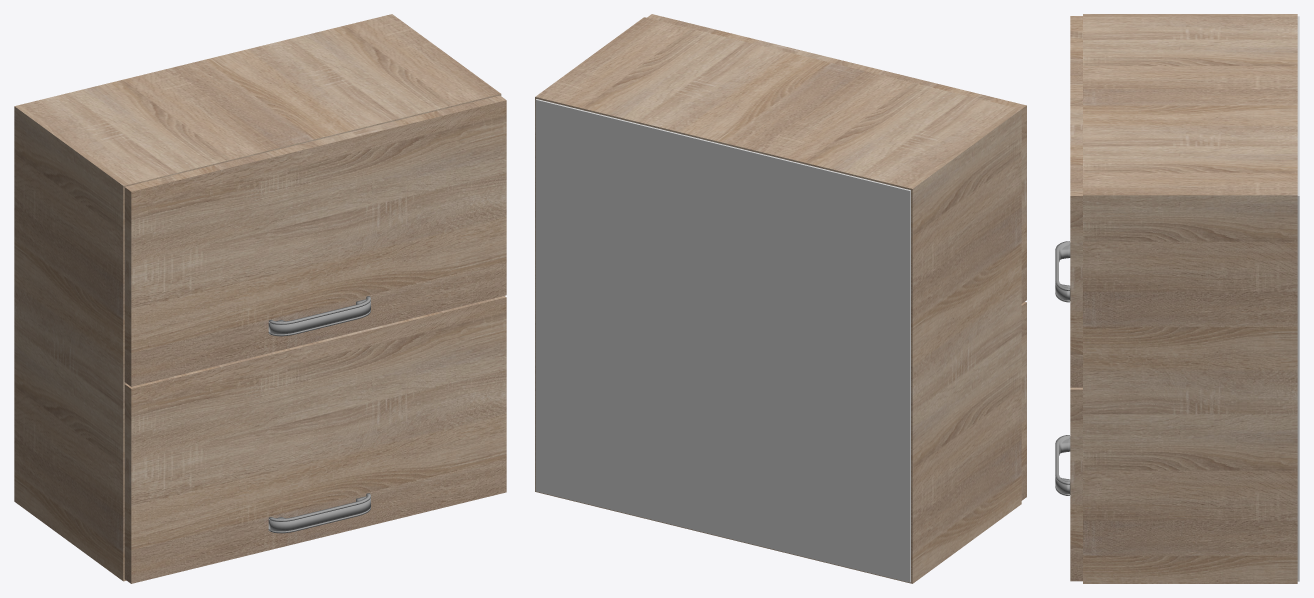
3 renders of one model, left to right at view 1: azimuth 30°, elevation 25°; view 2: azimuth 150°, elevation 25°; view 3: azimuth 270°, elevation 25°, orthographic.
Visible parts, largest first — view 1: s_f2f_60_60_korpusz, s_f2f_60_60_ajto_1, s_f2f_60_60_ajto_2, s_f2f_60_60_fogo_2, s_f2f_60_60_fogo_1; view 2: s_f2f_60_60_korpusz, s_f2f_60_60_ajto_1, s_f2f_60_60_ajto_2; view 3: s_f2f_60_60_korpusz, s_f2f_60_60_ajto_1, s_f2f_60_60_ajto_2, s_f2f_60_60_fogo_1, s_f2f_60_60_fogo_2.
Boxes of the visible parts, left/top/right/bottom form: s_f2f_60_60_korpusz: left=14, top=14, right=501, bottom=581; s_f2f_60_60_ajto_1: left=124, top=95, right=506, bottom=386; s_f2f_60_60_ajto_2: left=124, top=296, right=506, bottom=583; s_f2f_60_60_fogo_2: left=268, top=493, right=370, bottom=533; s_f2f_60_60_fogo_1: left=268, top=296, right=370, bottom=336; s_f2f_60_60_korpusz: left=535, top=17, right=1021, bottom=583; s_f2f_60_60_ajto_1: left=647, top=14, right=1026, bottom=303; s_f2f_60_60_ajto_2: left=1021, top=302, right=1026, bottom=500; s_f2f_60_60_korpusz: left=1083, top=14, right=1299, bottom=583; s_f2f_60_60_ajto_1: left=1070, top=16, right=1082, bottom=387; s_f2f_60_60_ajto_2: left=1070, top=387, right=1082, bottom=581; s_f2f_60_60_fogo_1: left=1055, top=241, right=1070, bottom=302; s_f2f_60_60_fogo_2: left=1055, top=435, right=1070, bottom=495.
Bounding box in the file's own units: 0.6 × 0.6 × 0.3418.
5 materials, 3 textured.
